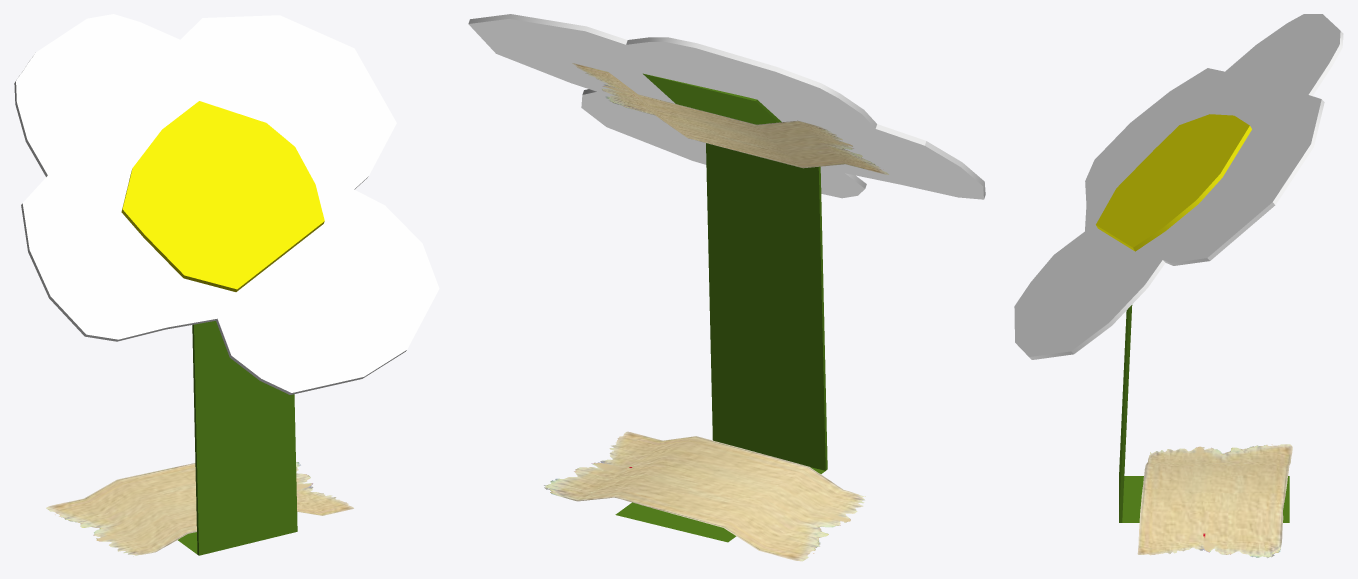
File: Flower.fbx
3 views of the same model, side by side, from view 1: azimuth 30°, elevation 25°; view 2: azimuth 150°, elevation 25°; view 3: azimuth 270°, elevation 25° (orthographic). The views are drawn at different scales.
Parts seen in each view (by area): view 1: Ebene_1; view 2: Ebene_1; view 3: Ebene_1.
Part boxes in pixels (x1=…): Ebene_1: x1=14, y1=14, x2=439, y2=556; Ebene_1: x1=468, y1=14, x2=985, y2=561; Ebene_1: x1=1014, y1=14, x2=1343, y2=557.
Bounding box in the file's own units: 1.96 × 2.2 × 1.47.
Materials: 3 (2 with a texture image).
